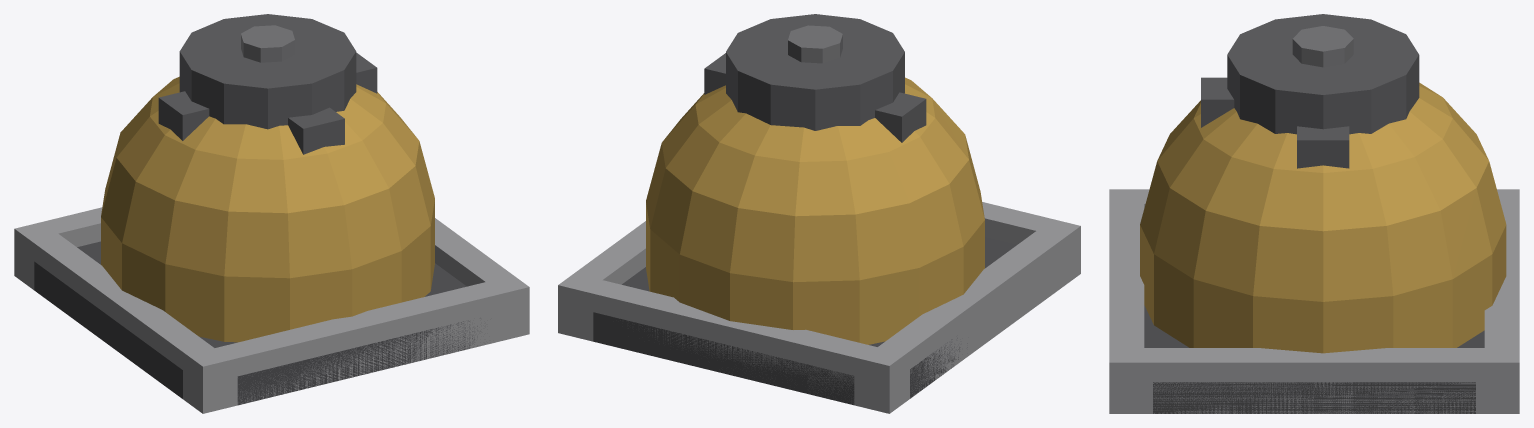
Rendered from vge_aux_oxygen_tank.obj.
The picture shows the model from 3 angles, left to right: view 1: azimuth 30°, elevation 25°; view 2: azimuth 150°, elevation 25°; view 3: azimuth 270°, elevation 25°; orthographic projection. The views are drawn at different scales.
Visible parts, largest first — view 1: vge_aux_oxygen_tank_5, vge_aux_oxygen_tank_1, vge_aux_oxygen_tank_6, vge_aux_oxygen_tank_0, vge_aux_oxygen_tank_3, vge_aux_oxygen_tank_2, vge_aux_oxygen_tank_4, vge_aux_oxygen_tank_9, vge_aux_oxygen_tank_10, vge_aux_oxygen_tank_8, vge_aux_oxygen_tank_7; view 2: vge_aux_oxygen_tank_5, vge_aux_oxygen_tank_2, vge_aux_oxygen_tank_6, vge_aux_oxygen_tank_3, vge_aux_oxygen_tank_0, vge_aux_oxygen_tank_1, vge_aux_oxygen_tank_4, vge_aux_oxygen_tank_10, vge_aux_oxygen_tank_8, vge_aux_oxygen_tank_7; view 3: vge_aux_oxygen_tank_5, vge_aux_oxygen_tank_4, vge_aux_oxygen_tank_6, vge_aux_oxygen_tank_0, vge_aux_oxygen_tank_1, vge_aux_oxygen_tank_2, vge_aux_oxygen_tank_10, vge_aux_oxygen_tank_7, vge_aux_oxygen_tank_9.
Boxes of the visible parts, x1,y1,x2,y2 form: vge_aux_oxygen_tank_5: (101, 76, 434, 342); vge_aux_oxygen_tank_1: (187, 275, 529, 413); vge_aux_oxygen_tank_6: (179, 14, 356, 129); vge_aux_oxygen_tank_0: (34, 241, 480, 405); vge_aux_oxygen_tank_3: (30, 234, 214, 401); vge_aux_oxygen_tank_2: (14, 207, 102, 287); vge_aux_oxygen_tank_4: (435, 218, 512, 286); vge_aux_oxygen_tank_9: (288, 107, 344, 154); vge_aux_oxygen_tank_10: (241, 25, 294, 62); vge_aux_oxygen_tank_8: (158, 91, 209, 140); vge_aux_oxygen_tank_7: (356, 52, 377, 93); vge_aux_oxygen_tank_5: (646, 77, 984, 344); vge_aux_oxygen_tank_2: (558, 273, 905, 413); vge_aux_oxygen_tank_6: (726, 14, 904, 130); vge_aux_oxygen_tank_3: (878, 231, 1064, 401); vge_aux_oxygen_tank_0: (593, 237, 1016, 405); vge_aux_oxygen_tank_1: (982, 202, 1080, 285); vge_aux_oxygen_tank_4: (574, 221, 645, 284); vge_aux_oxygen_tank_10: (788, 25, 842, 63); vge_aux_oxygen_tank_8: (875, 92, 926, 142); vge_aux_oxygen_tank_7: (704, 53, 725, 94); vge_aux_oxygen_tank_5: (1140, 82, 1506, 353); vge_aux_oxygen_tank_4: (1144, 348, 1484, 413); vge_aux_oxygen_tank_6: (1227, 14, 1419, 134); vge_aux_oxygen_tank_0: (1144, 305, 1484, 413); vge_aux_oxygen_tank_1: (1109, 189, 1144, 413); vge_aux_oxygen_tank_2: (1484, 189, 1519, 413); vge_aux_oxygen_tank_10: (1292, 26, 1353, 67); vge_aux_oxygen_tank_7: (1297, 126, 1349, 168); vge_aux_oxygen_tank_9: (1201, 77, 1234, 127).
Bounding box in the file's own units: 0.94 × 0.73 × 0.94.
